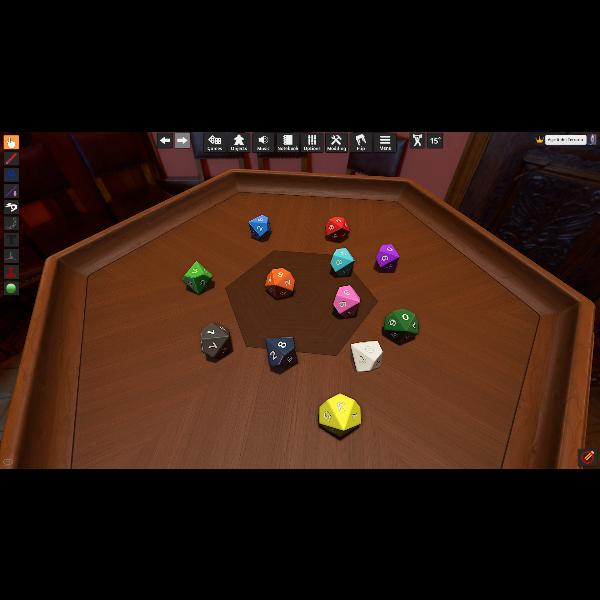d10: (320, 393, 360, 437), (383, 308, 417, 342), (200, 322, 230, 358), (183, 260, 214, 294), (350, 340, 382, 372), (265, 266, 295, 298), (266, 335, 296, 366), (334, 284, 360, 316), (330, 246, 354, 276), (376, 243, 400, 271), (248, 213, 272, 239), (326, 216, 348, 240)
